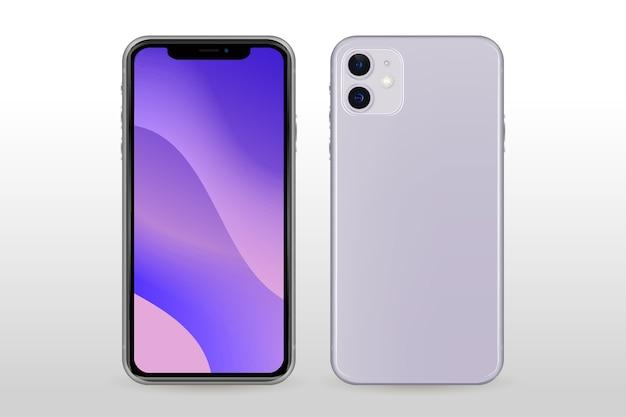Smart Phone: (122, 35, 296, 386)
